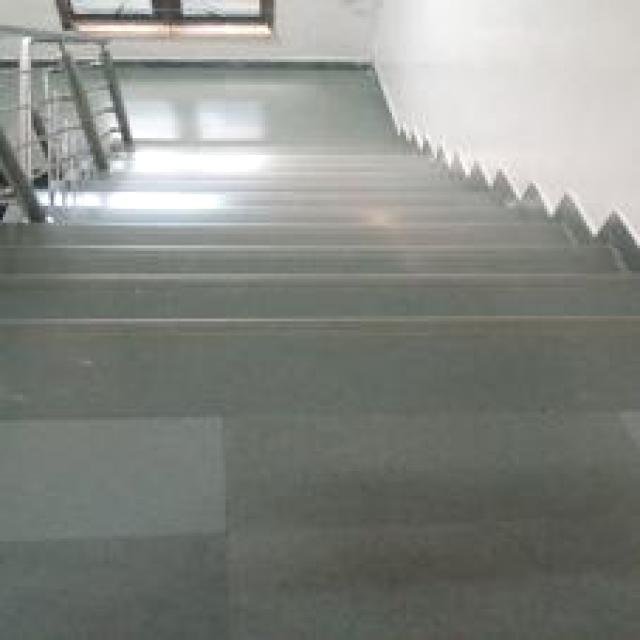stair: (1, 164, 640, 492)
